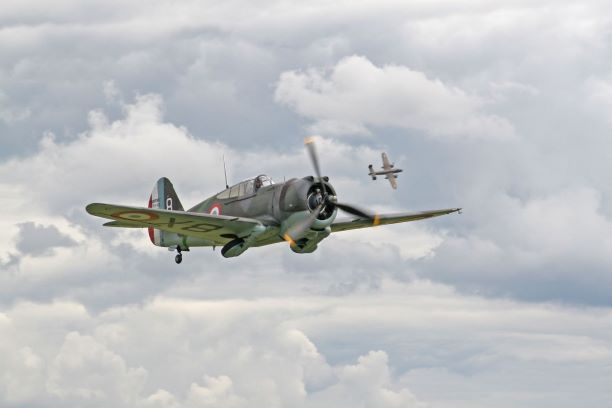plane: (81, 134, 466, 265), (365, 147, 406, 193)
